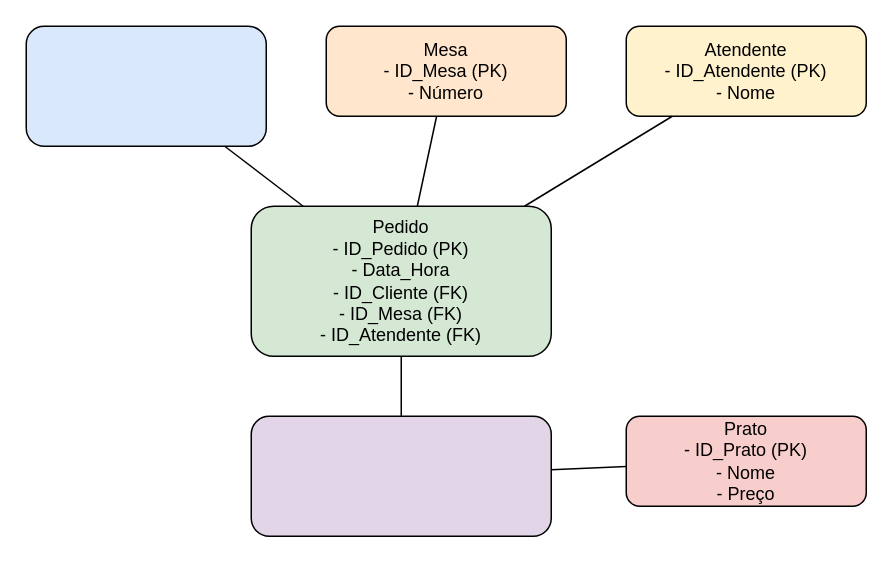
Image size: 893x563. Some labels were removed from this diagram. The centre of each missing label's shape, as x and y in pixels:
"Cliente - ID_Cliente (PK) - Nome - Hora_Chegada - Hora_Saída" belongs at [145,85].
"ItemPedido - ID_Item (PK) - ID_Pedido (FK) - ID_Prato (FK) - Quantidade" belongs at [400,475].
